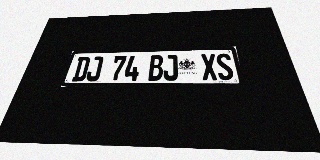4: (124, 55, 140, 81)
7: (109, 56, 127, 81)
B: (148, 55, 163, 81)
D: (71, 57, 91, 81)
J: (85, 56, 104, 81), (163, 55, 178, 81)
S: (215, 53, 235, 80)
X: (200, 54, 218, 80)
